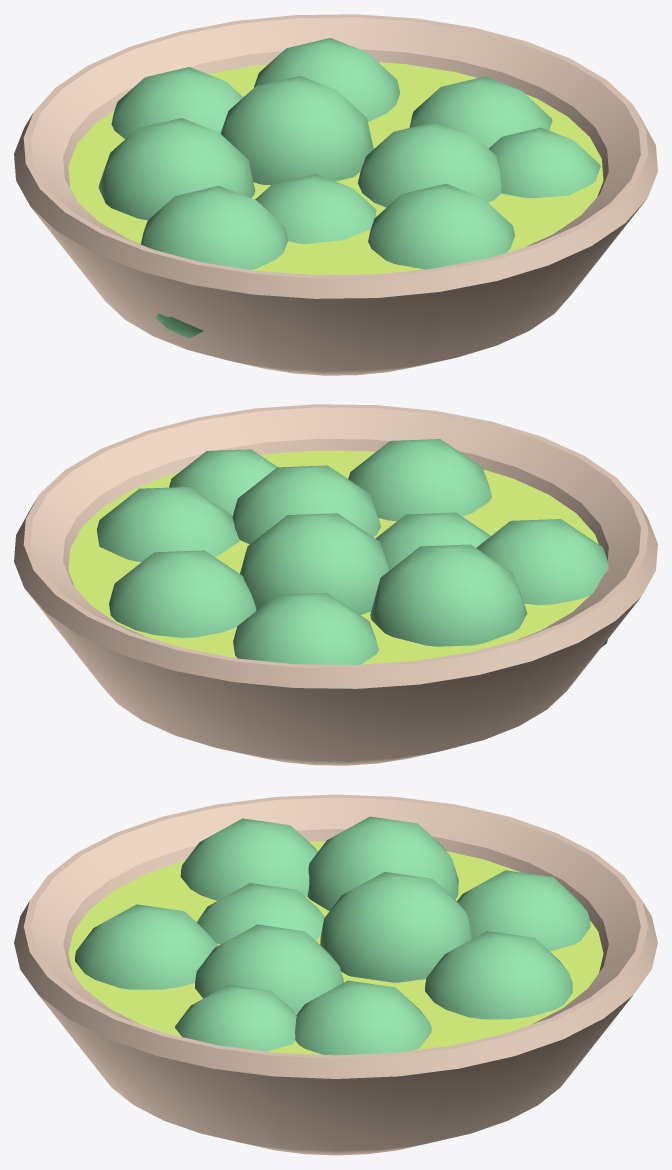
The model's file is CookedPeas.fbx.
The picture shows the model from 3 angles, top to bottom: view 1: azimuth 30°, elevation 25°; view 2: azimuth 150°, elevation 25°; view 3: azimuth 270°, elevation 25°; orthographic projection.
Parts seen in each view (by area): view 1: Bowl.003, Peas.017, PeaBroth; view 2: Bowl.003, Peas.017, PeaBroth; view 3: Bowl.003, Peas.017, PeaBroth.
Part boxes in pixels (bbox=[...]): Bowl.003: bbox=[14, 14, 657, 375]; Peas.017: bbox=[98, 38, 600, 338]; PeaBroth: bbox=[68, 62, 603, 274]; Bowl.003: bbox=[14, 404, 657, 765]; Peas.017: bbox=[97, 439, 608, 664]; PeaBroth: bbox=[68, 450, 598, 664]; Bowl.003: bbox=[14, 794, 657, 1155]; Peas.017: bbox=[75, 816, 590, 1055]; PeaBroth: bbox=[68, 841, 603, 1054].
Size of the model in its own units: 27.66 by 9.69 by 27.66.
